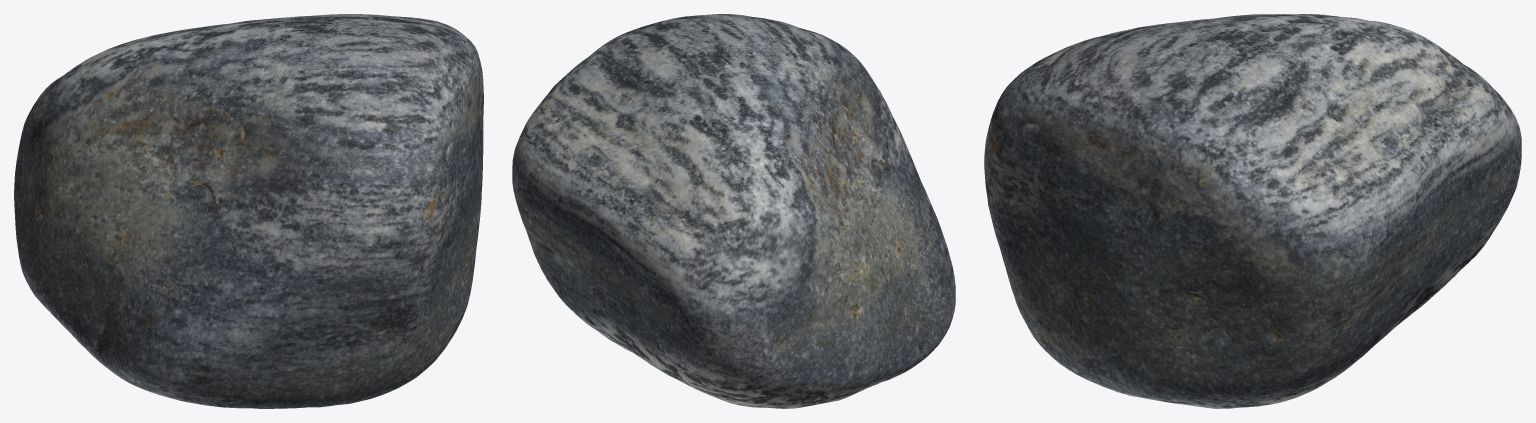
3 views of the same model, side by side, from view 1: azimuth 30°, elevation 25°; view 2: azimuth 150°, elevation 25°; view 3: azimuth 270°, elevation 25° (orthographic). The views are drawn at different scales.
Visible parts, largest first — view 1: rock-019; view 2: rock-019; view 3: rock-019.
Boxes of the visible parts, x1,y1,x2,y2 form: rock-019: (14,14,483,408); rock-019: (512,14,955,408); rock-019: (984,14,1521,408).
Size of the model in its own units: 1.84 by 1.39 by 2.
1 material, 1 textured.
